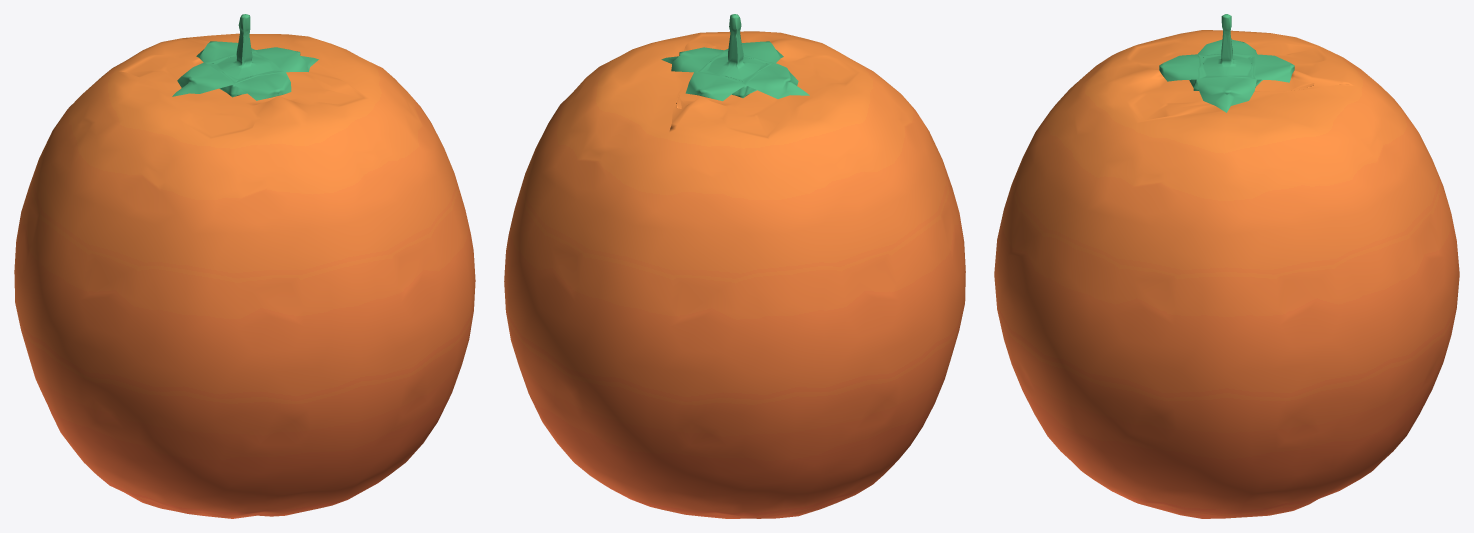
3 views of the same model, side by side, from view 1: azimuth 30°, elevation 25°; view 2: azimuth 150°, elevation 25°; view 3: azimuth 270°, elevation 25° (orthographic).
Size of the model in its own units: 0.9099 by 0.9776 by 0.9074.
Materials: 1 (1 with a texture image).
